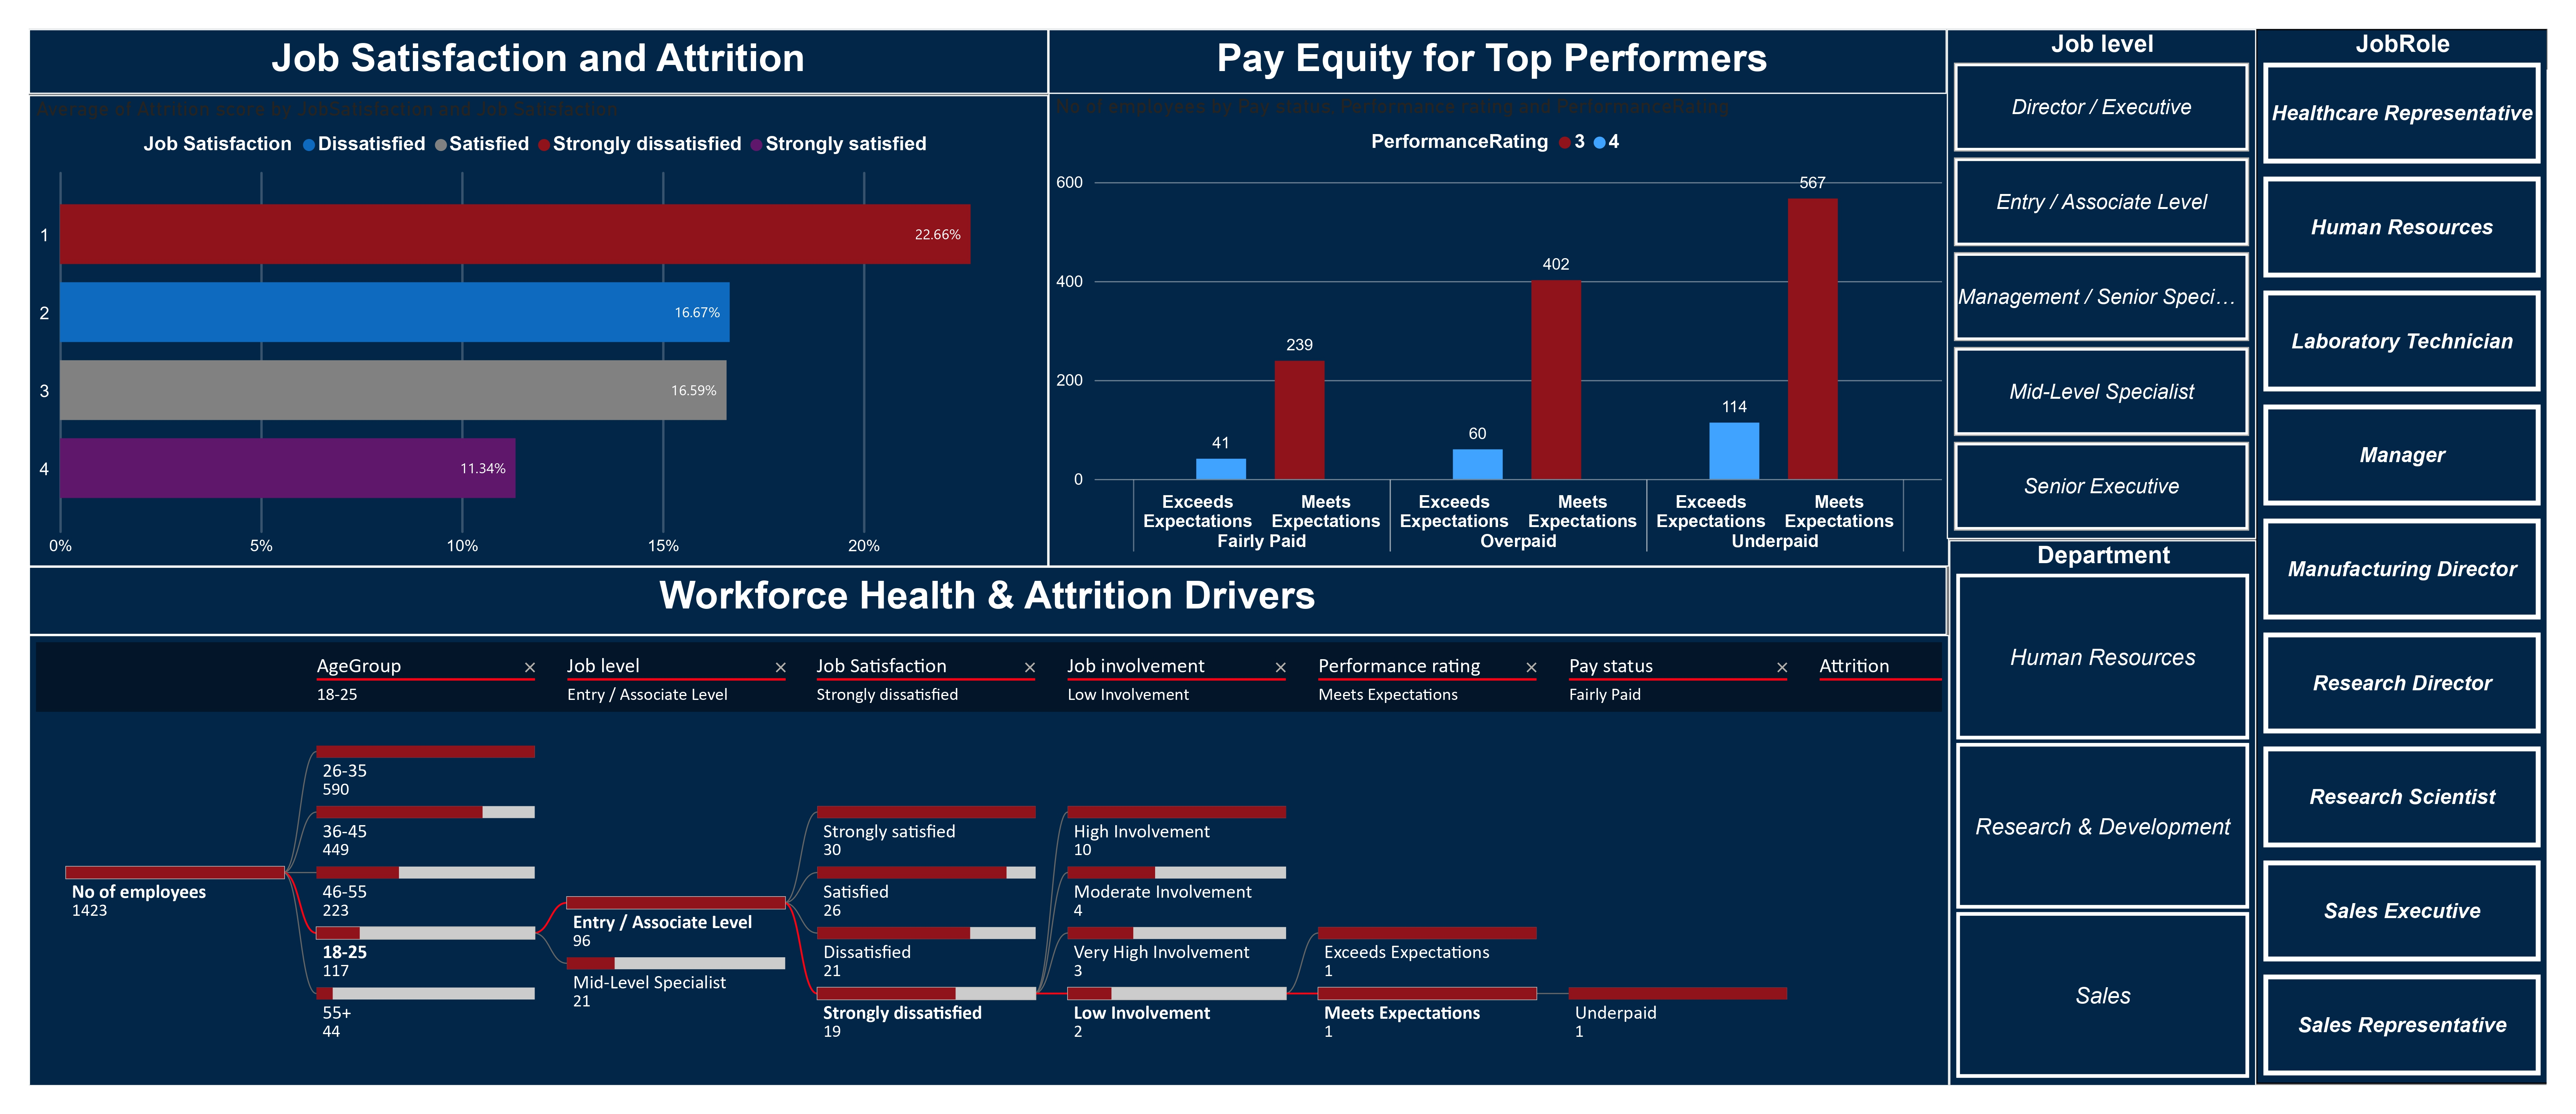

The dashboard page shown, as its layout file describes it:
{"tool":"powerbi","page":{"name":"Page 4","canvas":[2099,880],"ordinal":3},"visuals":[{"type":"barChart","fields":{"Series":["HR_Analytics.Job Satisfaction"],"Category":["HR_Analytics.JobSatisfaction"],"Y":["Avg(HR_Analytics.Attrition score)"]},"box":[0,54.8,850.1,393.6],"z":0},{"type":"textbox","box":[0,0,850,53.8],"z":1000},{"type":"clusteredColumnChart","fields":{"Category":["HR_Analytics.Pay status","HR_Analytics.Performance rating"],"Y":["HR_Analytics.No of employees"],"Series":["HR_Analytics.PerformanceRating"]},"box":[850.1,52.8,750.7,395.7],"z":2000},{"type":"textbox","box":[850,0,749.4,53.8],"z":3000},{"type":"decompositionTreeVisual","fields":{"Analyze":["HR_Analytics.No of employees"],"ExplainBy":["HR_Analytics.AgeGroup","HR_Analytics.Job level","HR_Analytics.Job Satisfaction","HR_Analytics.Job involvement","HR_Analytics.Performance rating","HR_Analytics.Pay status","HR_Analytics.Attrition"]},"box":[0,505.2,1600.9,375.4],"z":4000},{"type":"textbox","box":[0,448.4,1598.8,56.8],"z":5000},{"type":"listSlicer","fields":{"Values":["HR_Analytics.JobRole"]},"box":[1856.6,0,243.4,879.3],"z":6000},{"type":"advancedSlicerVisual","fields":{"Values":["HR_Analytics.Job level"]},"box":[1599.2,0,257.5,425.2],"z":7000},{"type":"advancedSlicerVisual","fields":{"Values":["HR_Analytics.Department"]},"box":[1600.9,426.1,255.7,454.5],"z":8000}]}

Visuals, with their boxes on the page's 2099x880 design canvas (x1, y1, x2, y2). These are canvas units, not pixel positions in the 2576x1114 screenshot, which may show the page scaled, cropped or inside an application window:
barChart - HR_Analytics.Job Satisfaction x HR_Analytics.JobSatisfaction: crop(0, 55, 850, 448)
textbox: crop(0, 0, 850, 54)
clusteredColumnChart - HR_Analytics.Pay status x HR_Analytics.Performance rating: crop(850, 53, 1601, 448)
textbox: crop(850, 0, 1599, 54)
decompositionTreeVisual - HR_Analytics.No of employees x HR_Analytics.AgeGroup: crop(0, 505, 1601, 881)
textbox: crop(0, 448, 1599, 505)
listSlicer - HR_Analytics.JobRole: crop(1857, 0, 2100, 879)
advancedSlicerVisual - HR_Analytics.Job level: crop(1599, 0, 1857, 425)
advancedSlicerVisual - HR_Analytics.Department: crop(1601, 426, 1857, 881)
